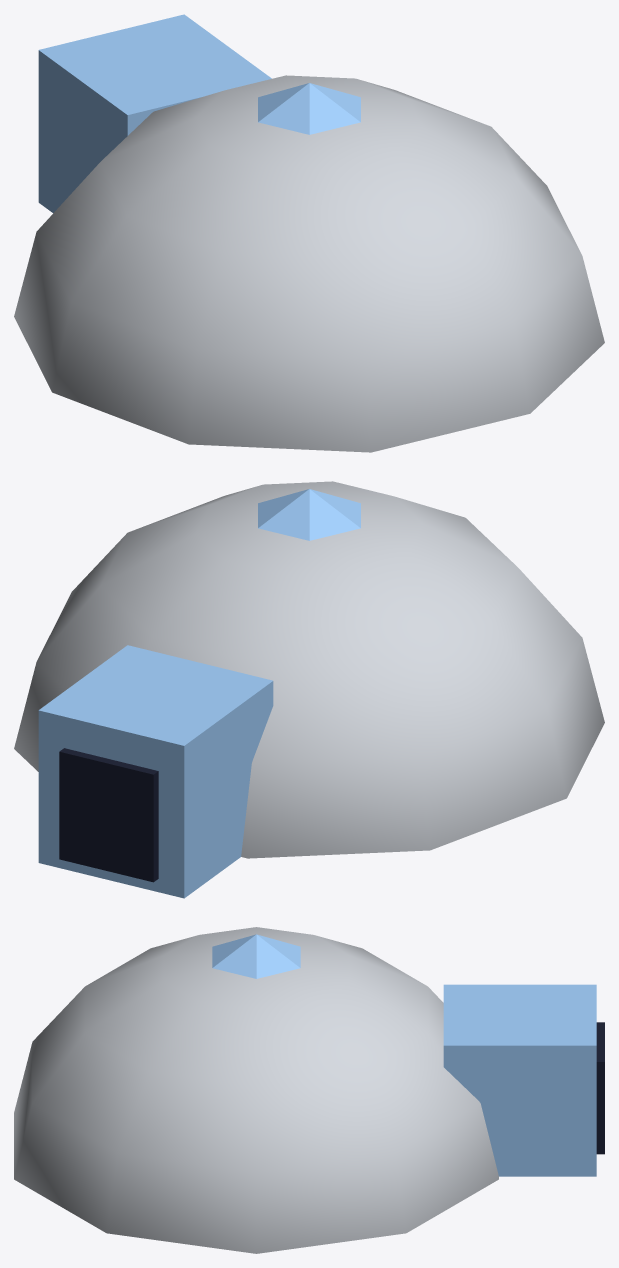
Rendered from hielo_iglu.obj.
3 views of the same model, one above another, from view 1: azimuth 30°, elevation 25°; view 2: azimuth 150°, elevation 25°; view 3: azimuth 270°, elevation 25° (orthographic). The views are drawn at different scales.
Parts seen in each view (by area): view 1: hielo_iglu; view 2: hielo_iglu; view 3: hielo_iglu.
Part boxes in pixels (<box>): hielo_iglu: <box>14,14,604,452</box>; hielo_iglu: <box>14,481,604,898</box>; hielo_iglu: <box>14,927,604,1253</box>.
Bounding box in the file's own units: 1.2 × 0.55 × 1.39.
